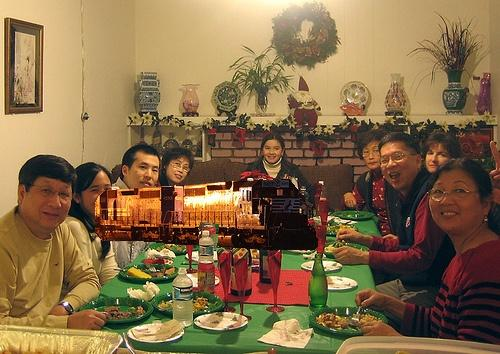tampered: (96, 180, 318, 250)
